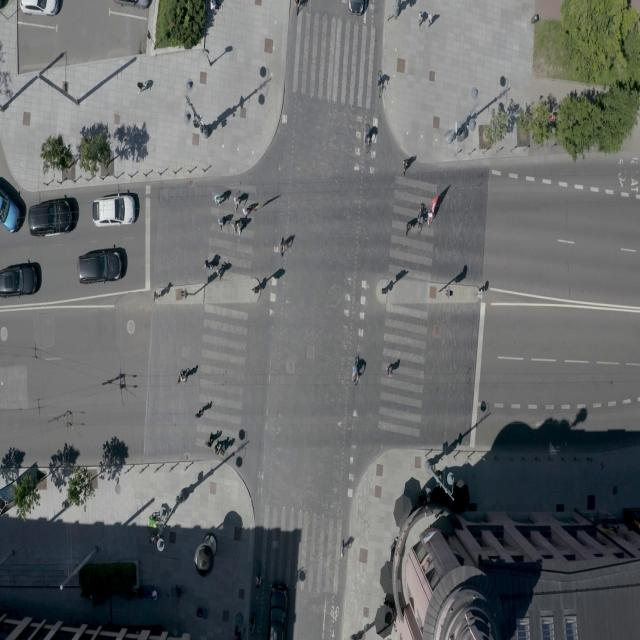Car: (27, 194, 73, 239), (77, 244, 124, 288), (91, 193, 138, 229), (0, 257, 40, 297), (0, 188, 20, 233)
